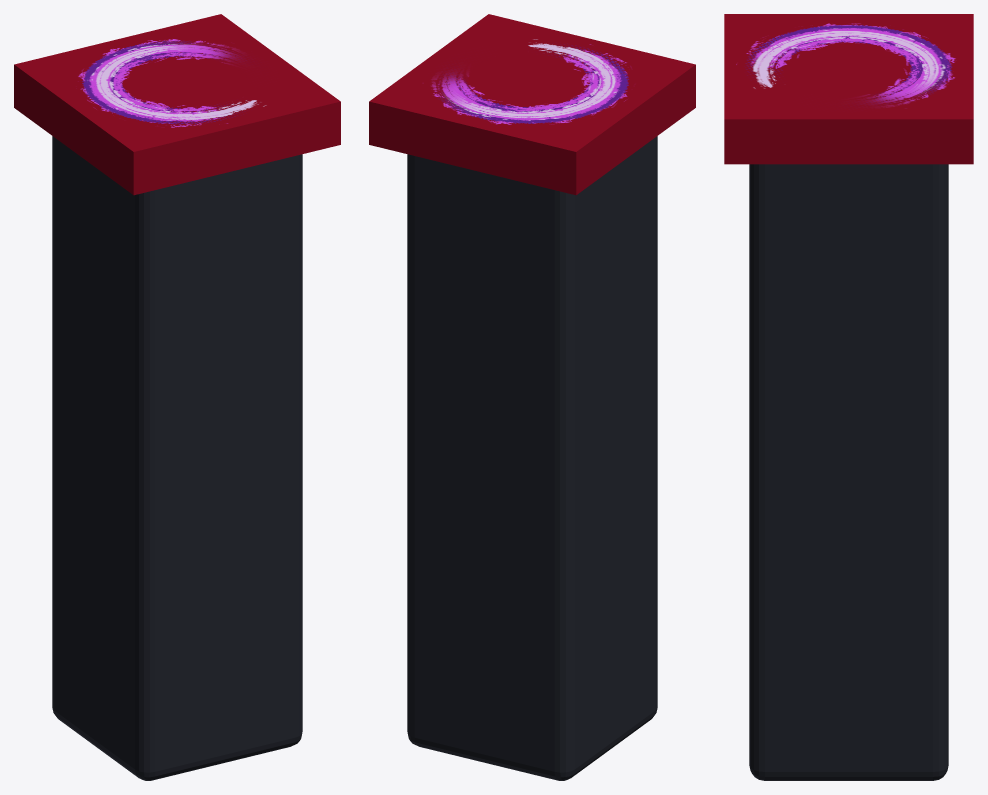
File: enemy_tower.glb
3 views of the same model, side by side, from view 1: azimuth 30°, elevation 25°; view 2: azimuth 150°, elevation 25°; view 3: azimuth 270°, elevation 25° (orthographic). The views are drawn at different scales.
Parts seen in each view (by area): view 1: Cube.001, Cube; view 2: Cube.001, Cube; view 3: Cube.001, Cube.
Part boxes in pixels (<box>): Cube.001: <box>52,136,302,780</box>; Cube: <box>14,14,340,195</box>; Cube.001: <box>407,136,657,780</box>; Cube: <box>369,14,695,195</box>; Cube.001: <box>749,164,948,780</box>; Cube: <box>724,14,973,164</box>.
Bounding box in the file's own units: 1 × 3 × 1.
2 materials, 1 textured.
